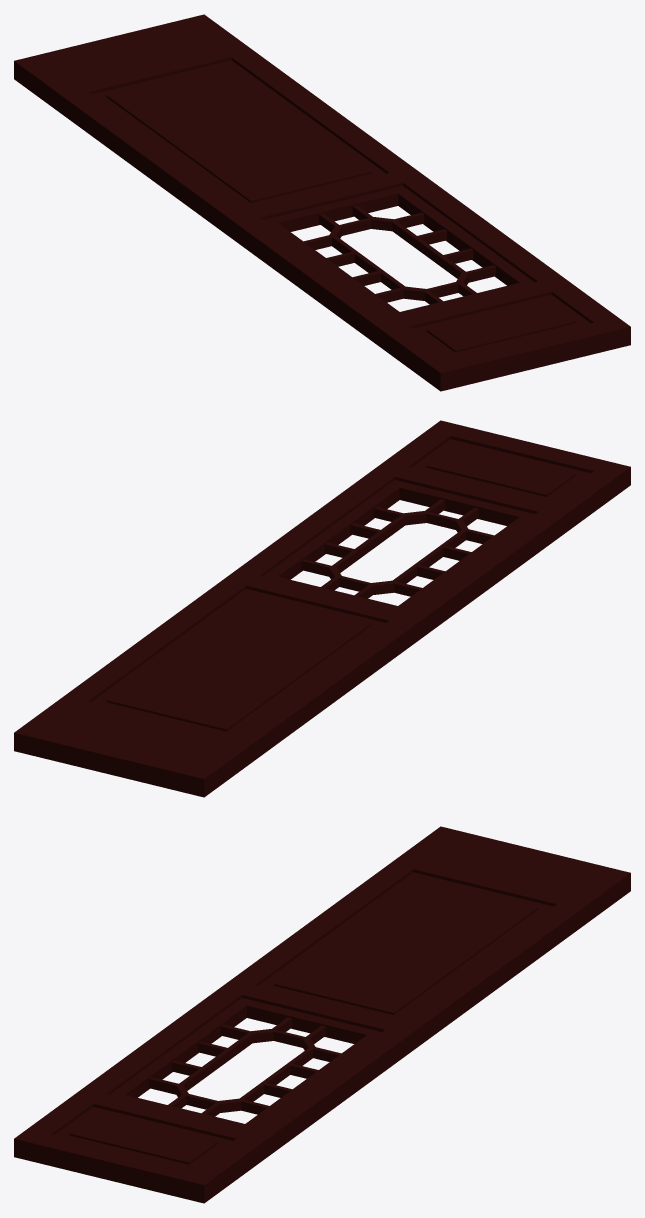
Rendered from Door 2.obj.
3 renders of one model, top to bottom at view 1: azimuth 30°, elevation 25°; view 2: azimuth 150°, elevation 25°; view 3: azimuth 330°, elevation 25°, orthographic.
Size of the model in its own units: 650 by 60 by 2525.
